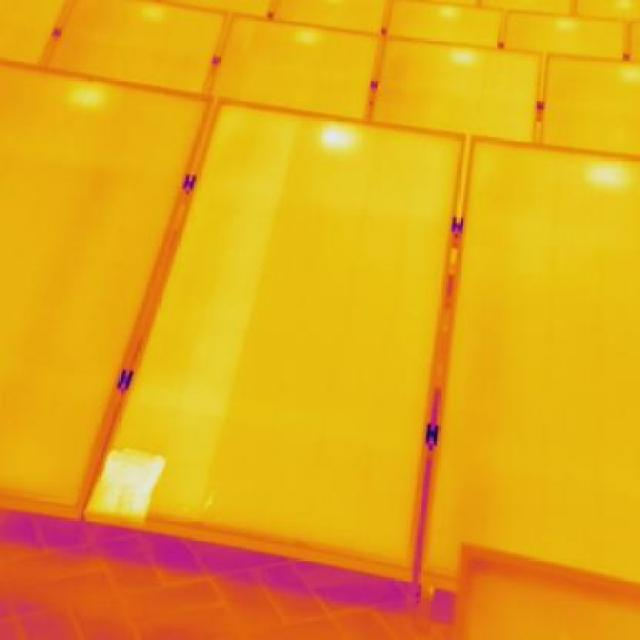hotspot: (84, 446, 168, 528), (316, 116, 362, 161)
